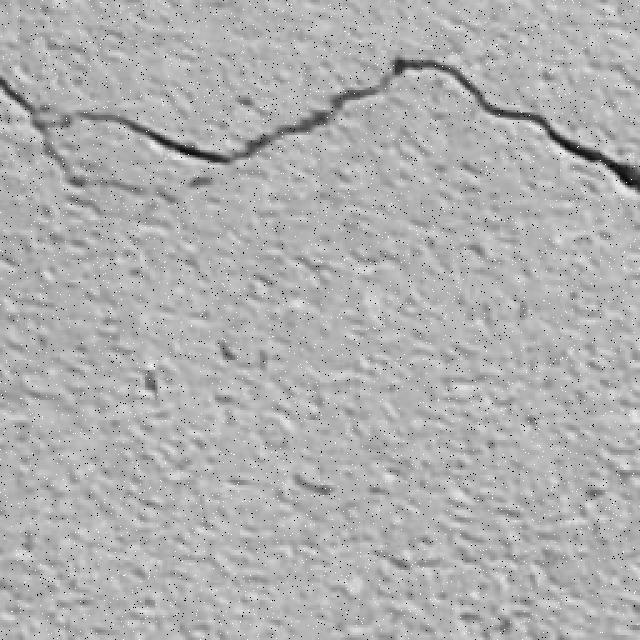minor crack: (4, 46, 636, 207)
moderate crack: (80, 114, 232, 162), (72, 174, 168, 201), (293, 472, 333, 493)
